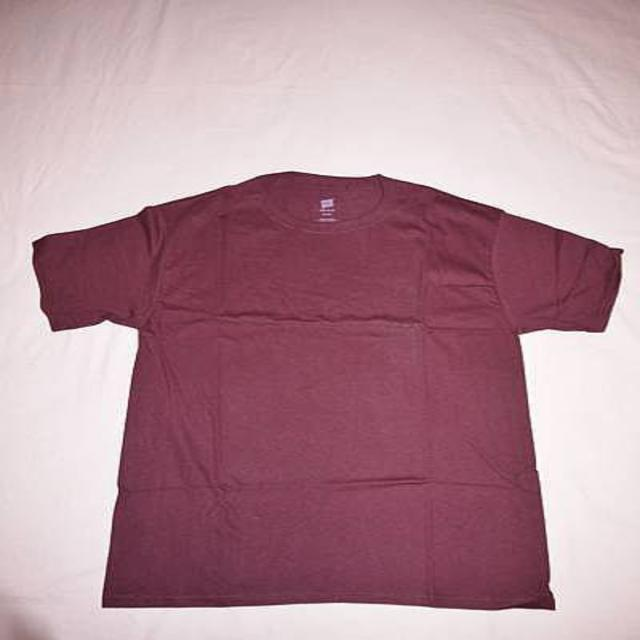T_SHIRT: (14, 163, 640, 626)
